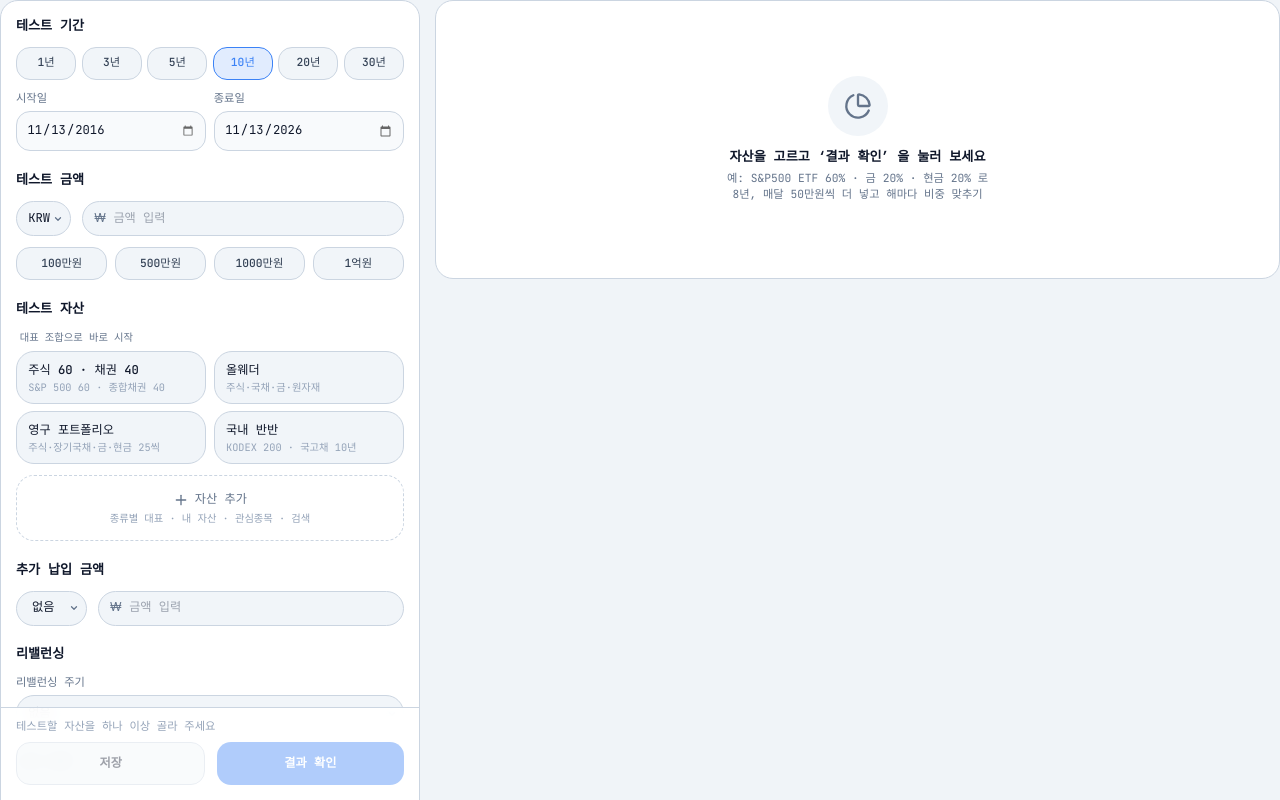
Test: 사진에 있던 나머지 항목 › 1980년부터도 돌릴 수 있다
This screenshot has width=1280, height=800.
Type "1980-01-02" into the date field labelled "시작일" at [111, 131], box x1=16 y1=111 x2=206 y2=151
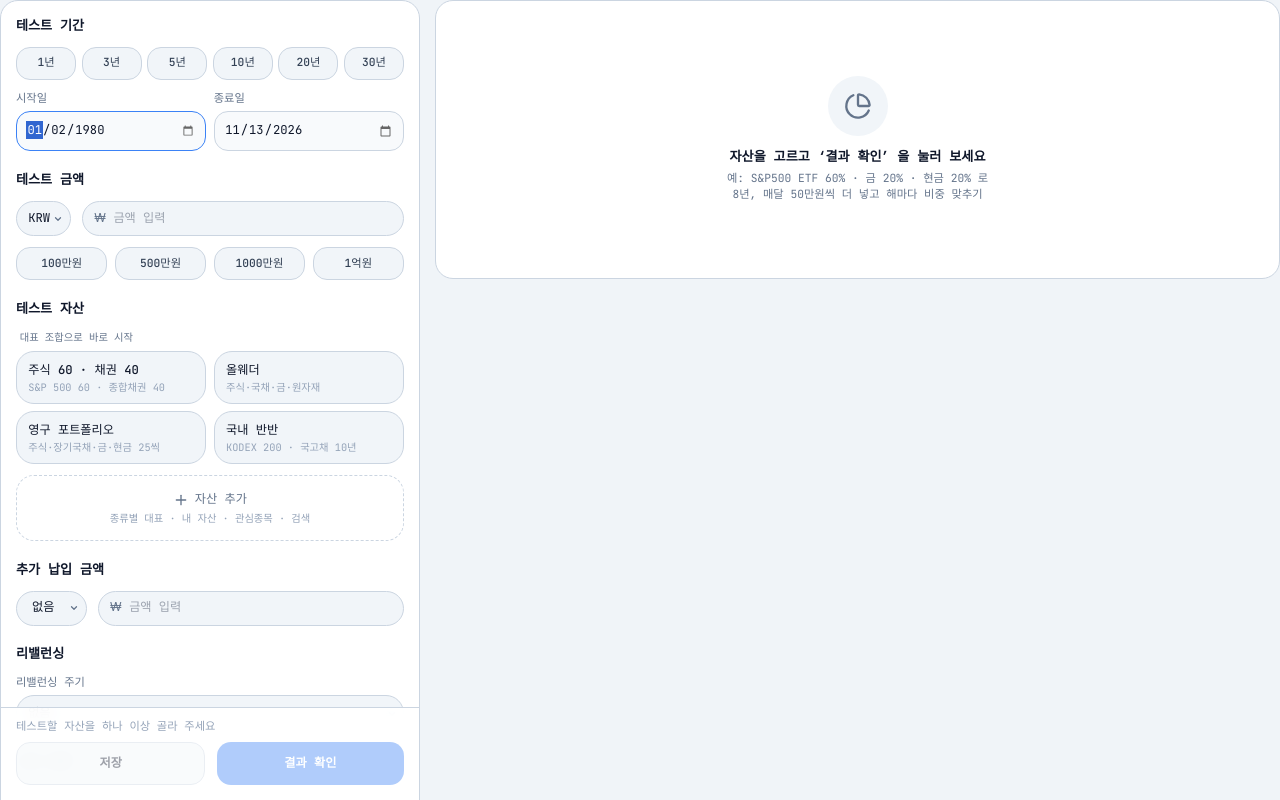
Click the button labelled "자산 추가 종류별 대표 · 내 자산 · 관심종목 · 검색" at [210, 508], box x1=16 y1=475 x2=404 y2=541
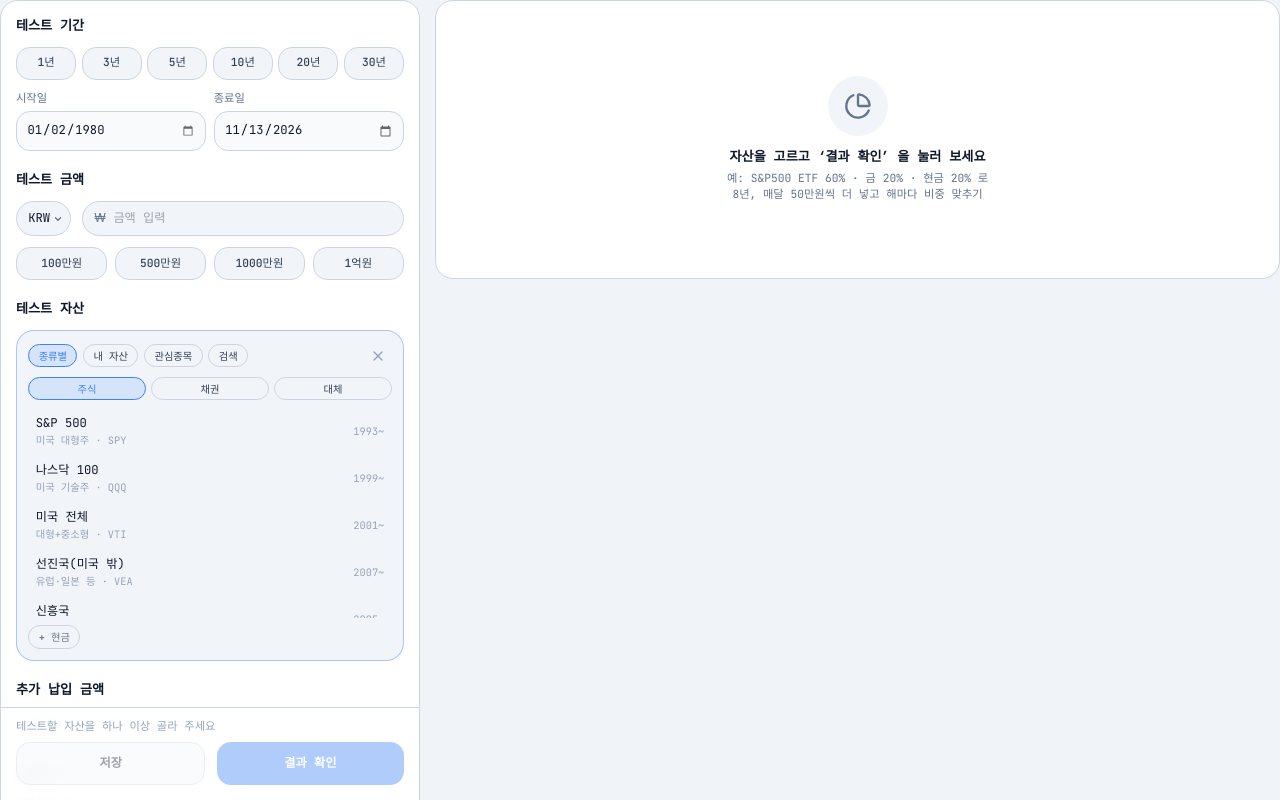
Click the button with aria-label "검색해서" at [228, 356], box x1=208 y1=344 x2=248 y2=367
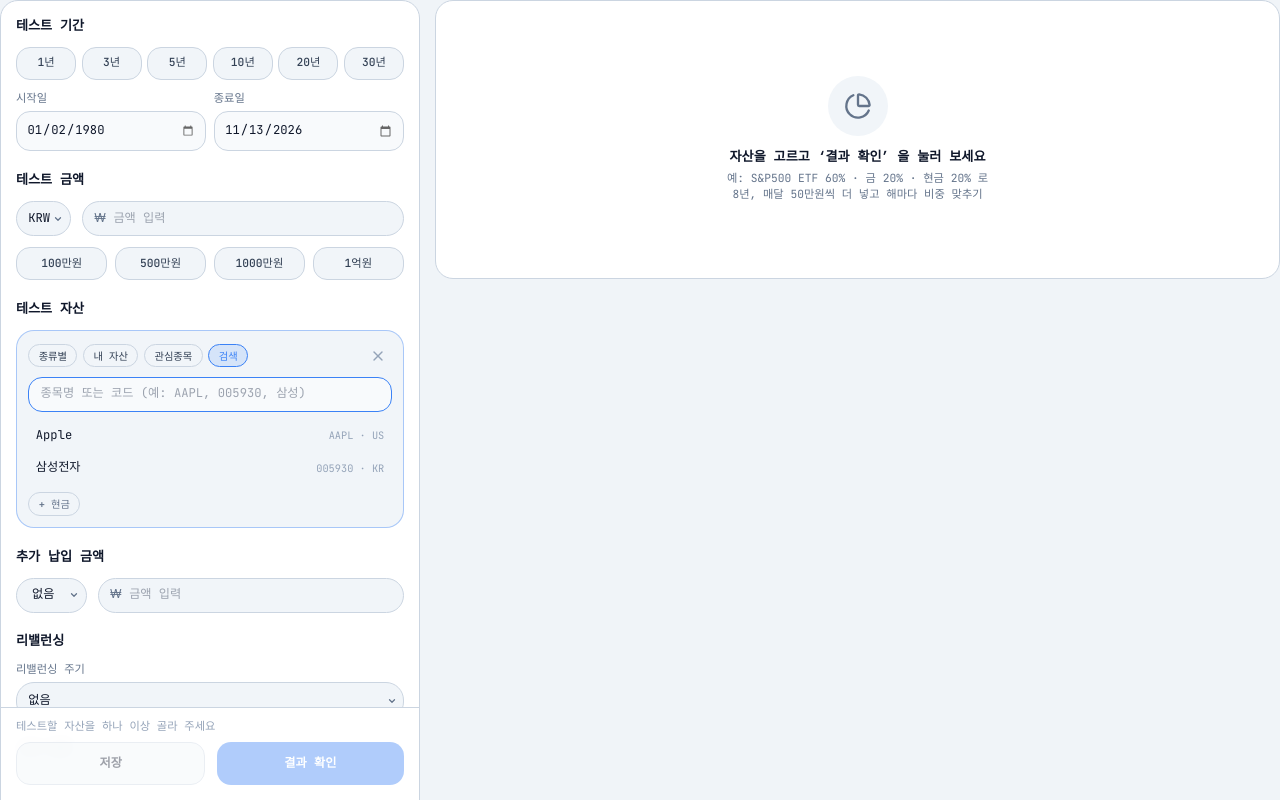
Click the button with aria-label "Apple 담기" at [54, 435], box x1=28 y1=419 x2=392 y2=452
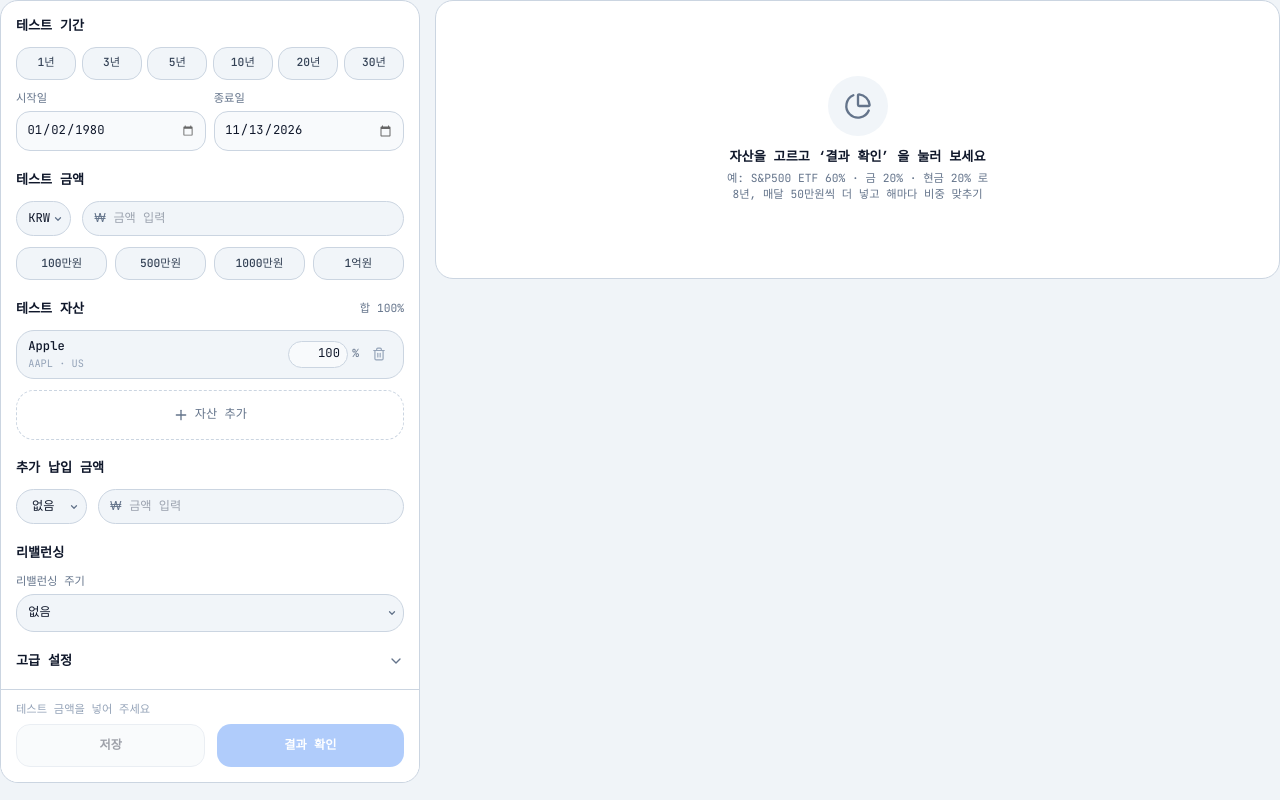
Click the button labelled "1000만원" at [260, 264], box x1=214 y1=247 x2=305 y2=280
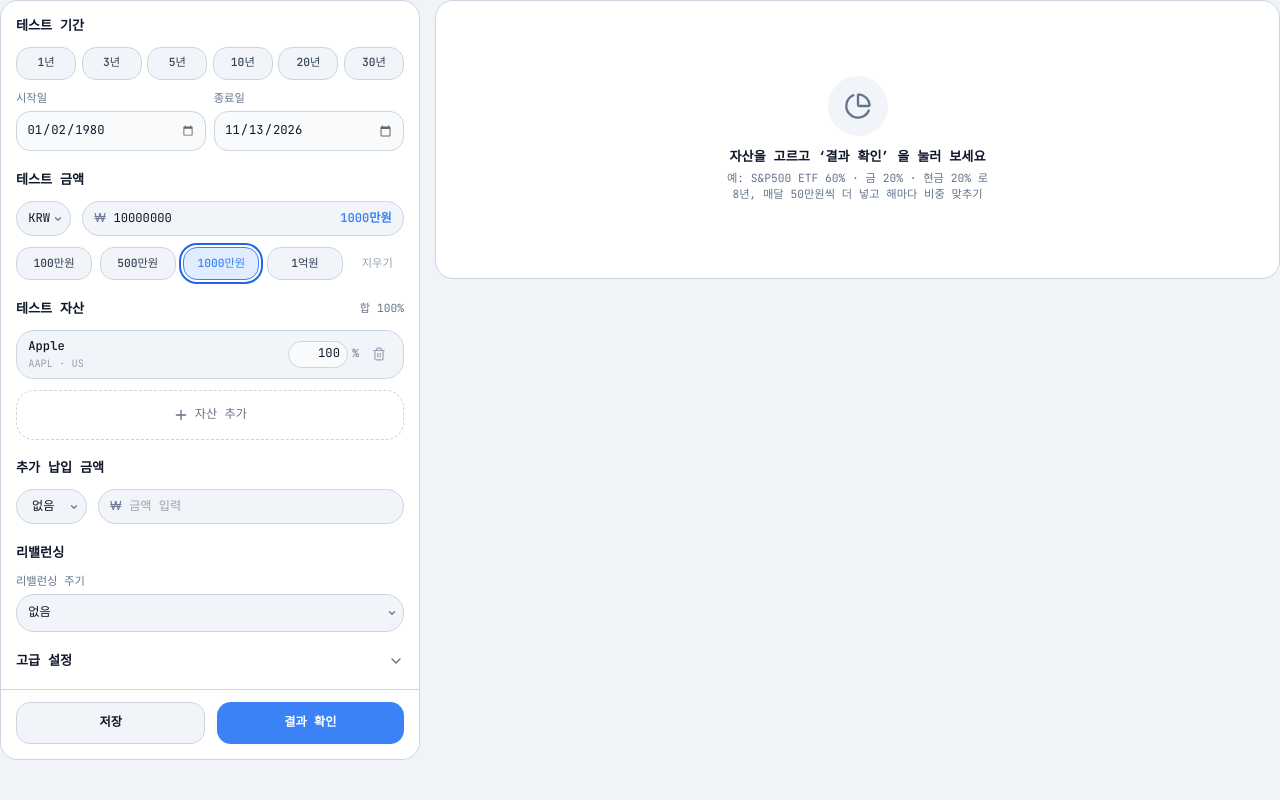
Expected: the button "결과 확인" is enabled, x1=217 y1=702 x2=404 y2=744
